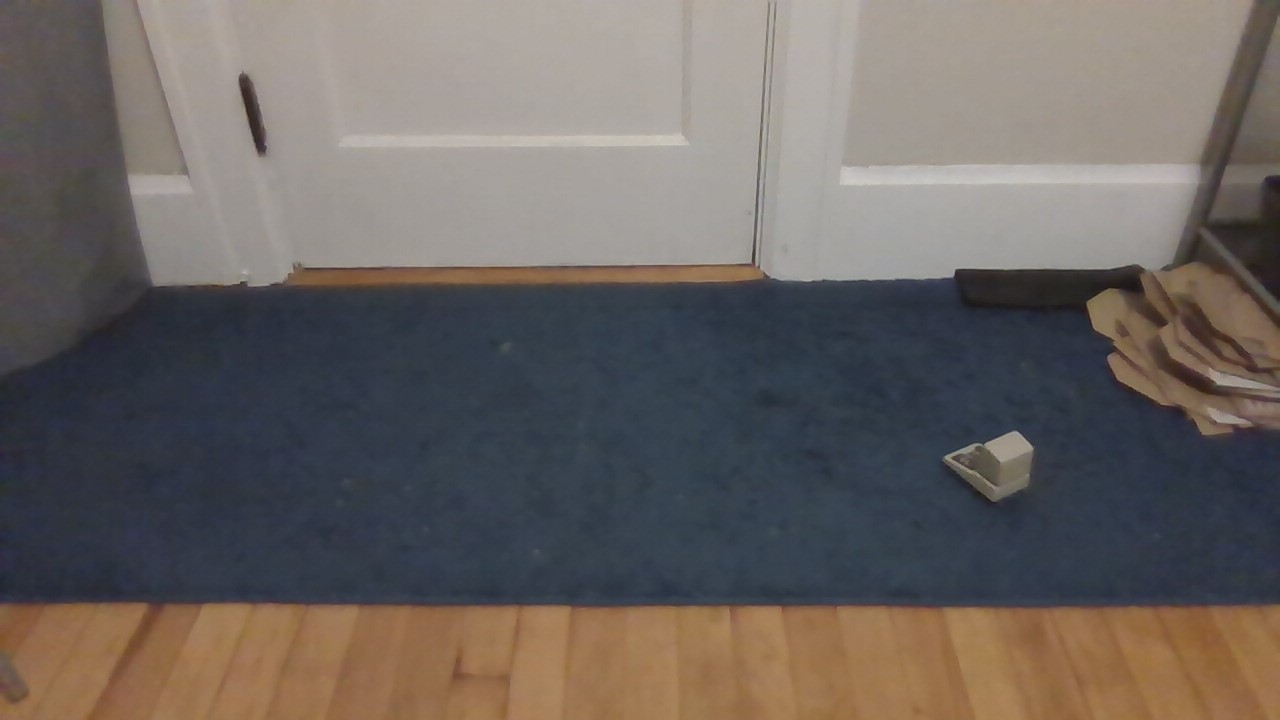Toy: (925, 409, 1048, 525)
